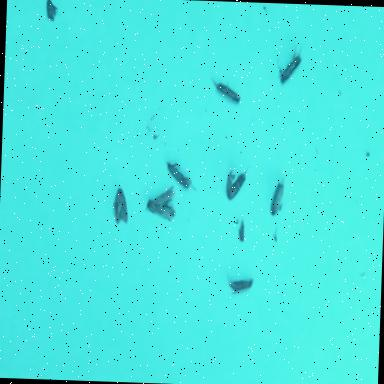pbw: (162, 160, 198, 192), (278, 43, 304, 86), (227, 165, 249, 201), (211, 78, 241, 104), (144, 198, 176, 222), (112, 188, 129, 225), (270, 175, 284, 216), (150, 184, 176, 206), (226, 275, 253, 295), (44, 0, 58, 22)
